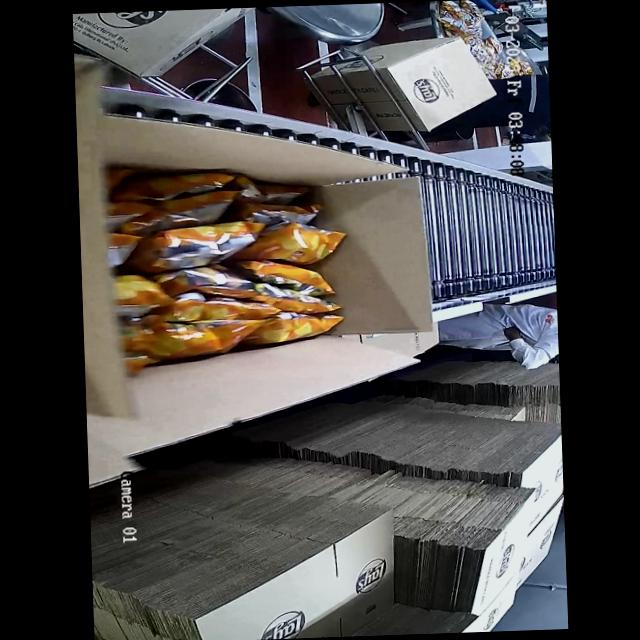cheese: (106, 180, 336, 374)
